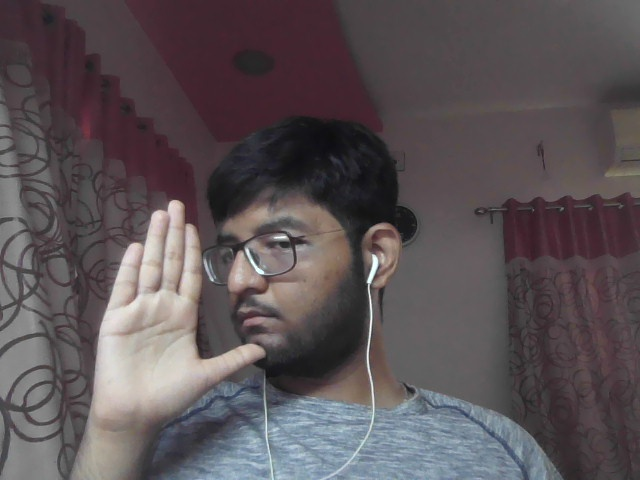માતા: (88, 182, 282, 436)
